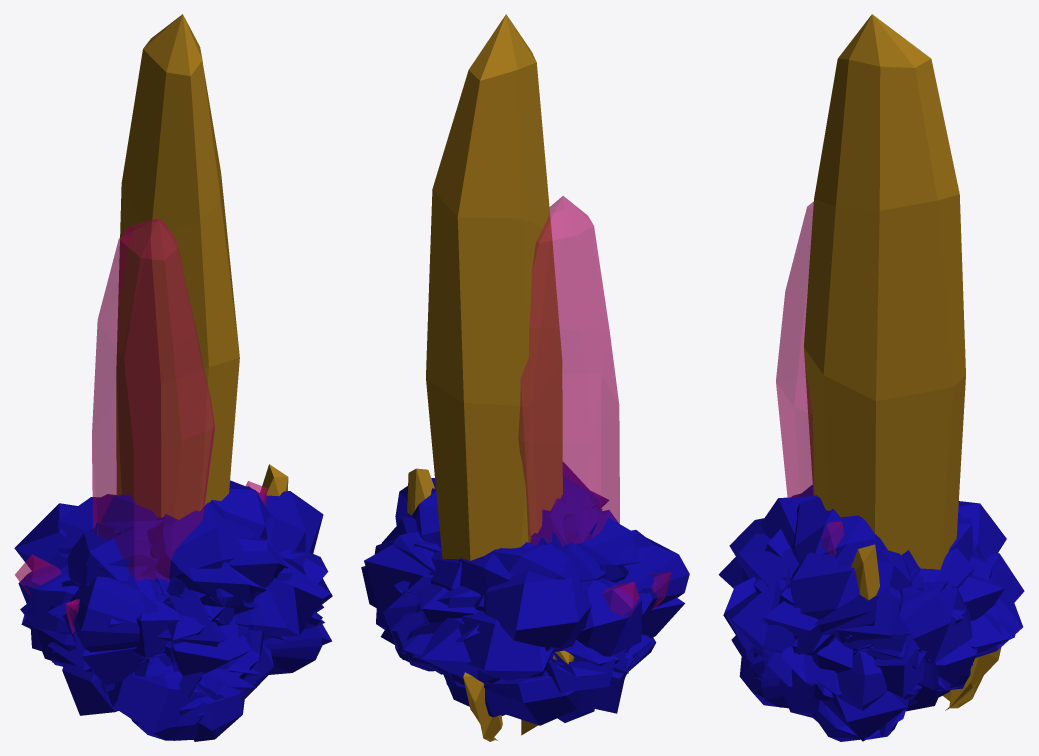
File: crystal6.obj
3 views of the same model, side by side, from view 1: azimuth 30°, elevation 25°; view 2: azimuth 150°, elevation 25°; view 3: azimuth 270°, elevation 25° (orthographic). The views are drawn at different scales.
Visible parts, largest first — view 1: Circle, Cube.001; view 2: Circle, Cube.001; view 3: Circle, Cube.001.
Boxes of the visible parts, x1,y1,x2,y2 form: Circle: (15,14,288,632); Cube.001: (14,480,332,741); Circle: (407,14,671,741); Cube.001: (361,462,689,725); Circle: (776,14,1001,710); Cube.001: (718,485,1024,741).
Size of the model in its own units: 2.12 by 4.89 by 1.91.
